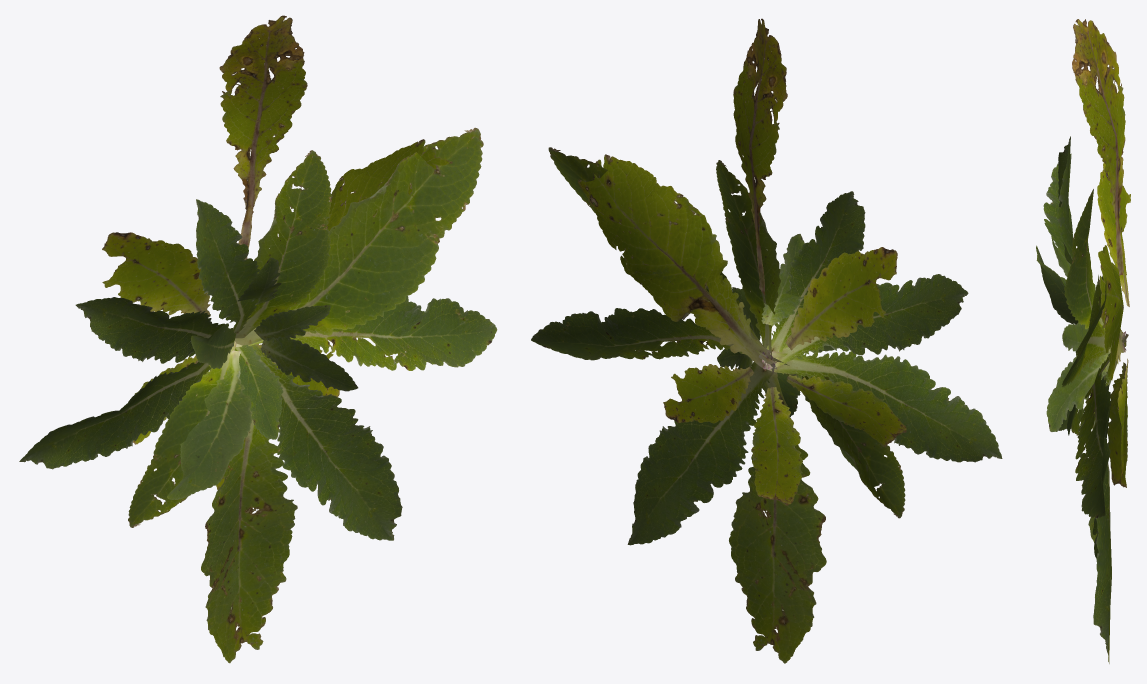
File: Weed_01_Var1_LOD0.fbx
3 renders of one model, left to right at view 1: azimuth 30°, elevation 25°; view 2: azimuth 150°, elevation 25°; view 3: azimuth 270°, elevation 25°, orthographic. The views are drawn at different scales.
Visible parts, largest first — view 1: Var1_LOD0; view 2: Var1_LOD0; view 3: Var1_LOD0.
Boxes of the visible parts, x1,y1,x2,y2 form: Var1_LOD0: [19, 15, 497, 663]; Var1_LOD0: [531, 18, 1002, 663]; Var1_LOD0: [1036, 19, 1130, 663].
Size of the model in its own units: 39.39 by 50.35 by 6.7.
